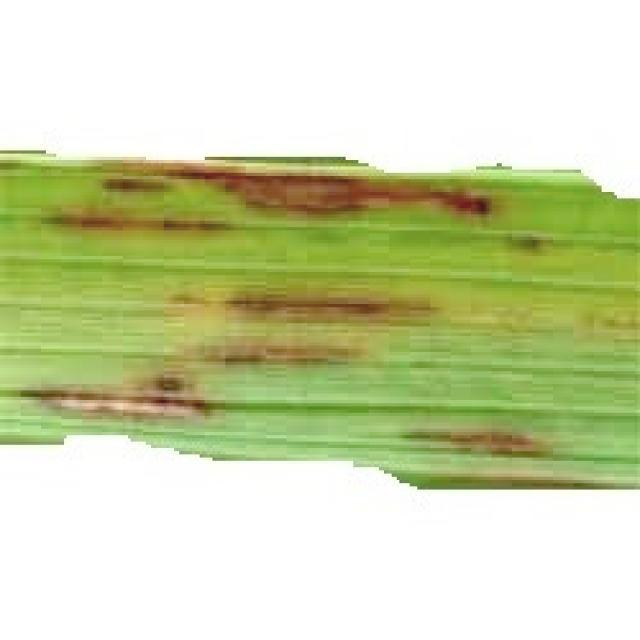Leafsmut: (120, 162, 493, 217), (21, 378, 215, 418), (226, 291, 436, 321), (46, 209, 231, 231), (408, 429, 547, 456), (202, 341, 360, 364), (102, 177, 167, 192), (508, 233, 548, 253)
